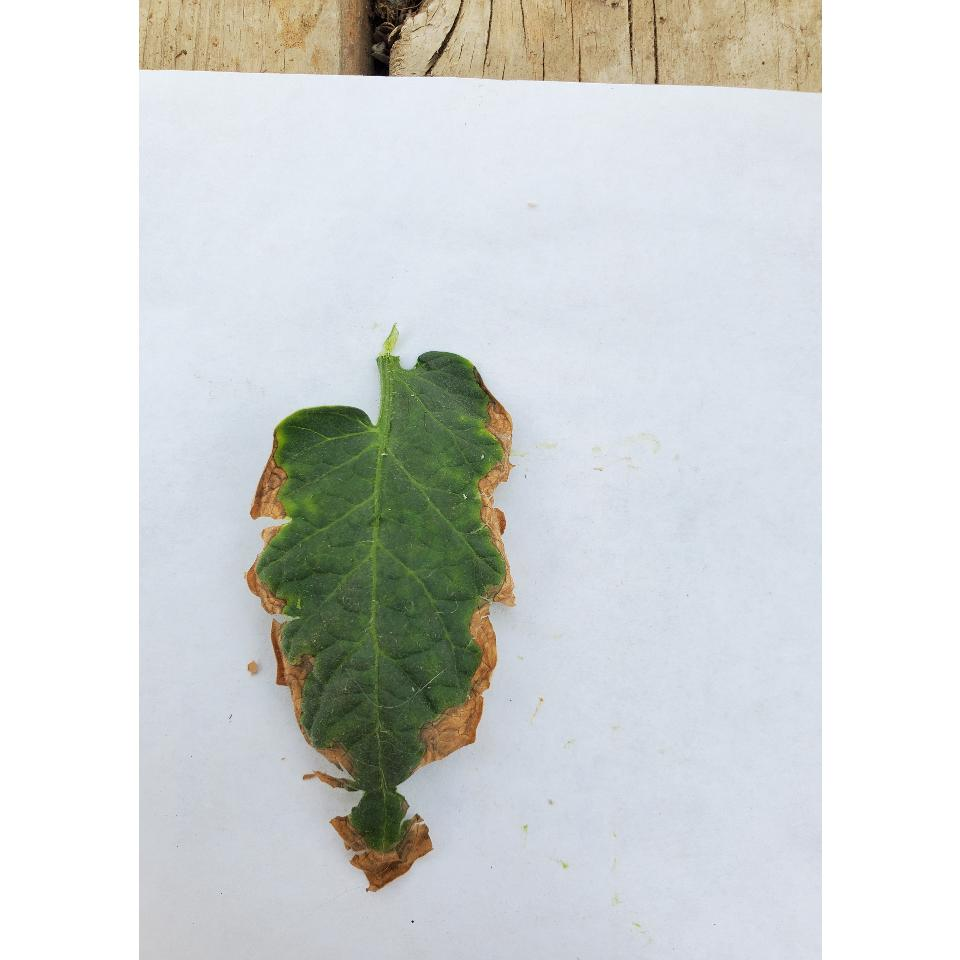tomato_bacterial_blight: (228, 315, 524, 913)
